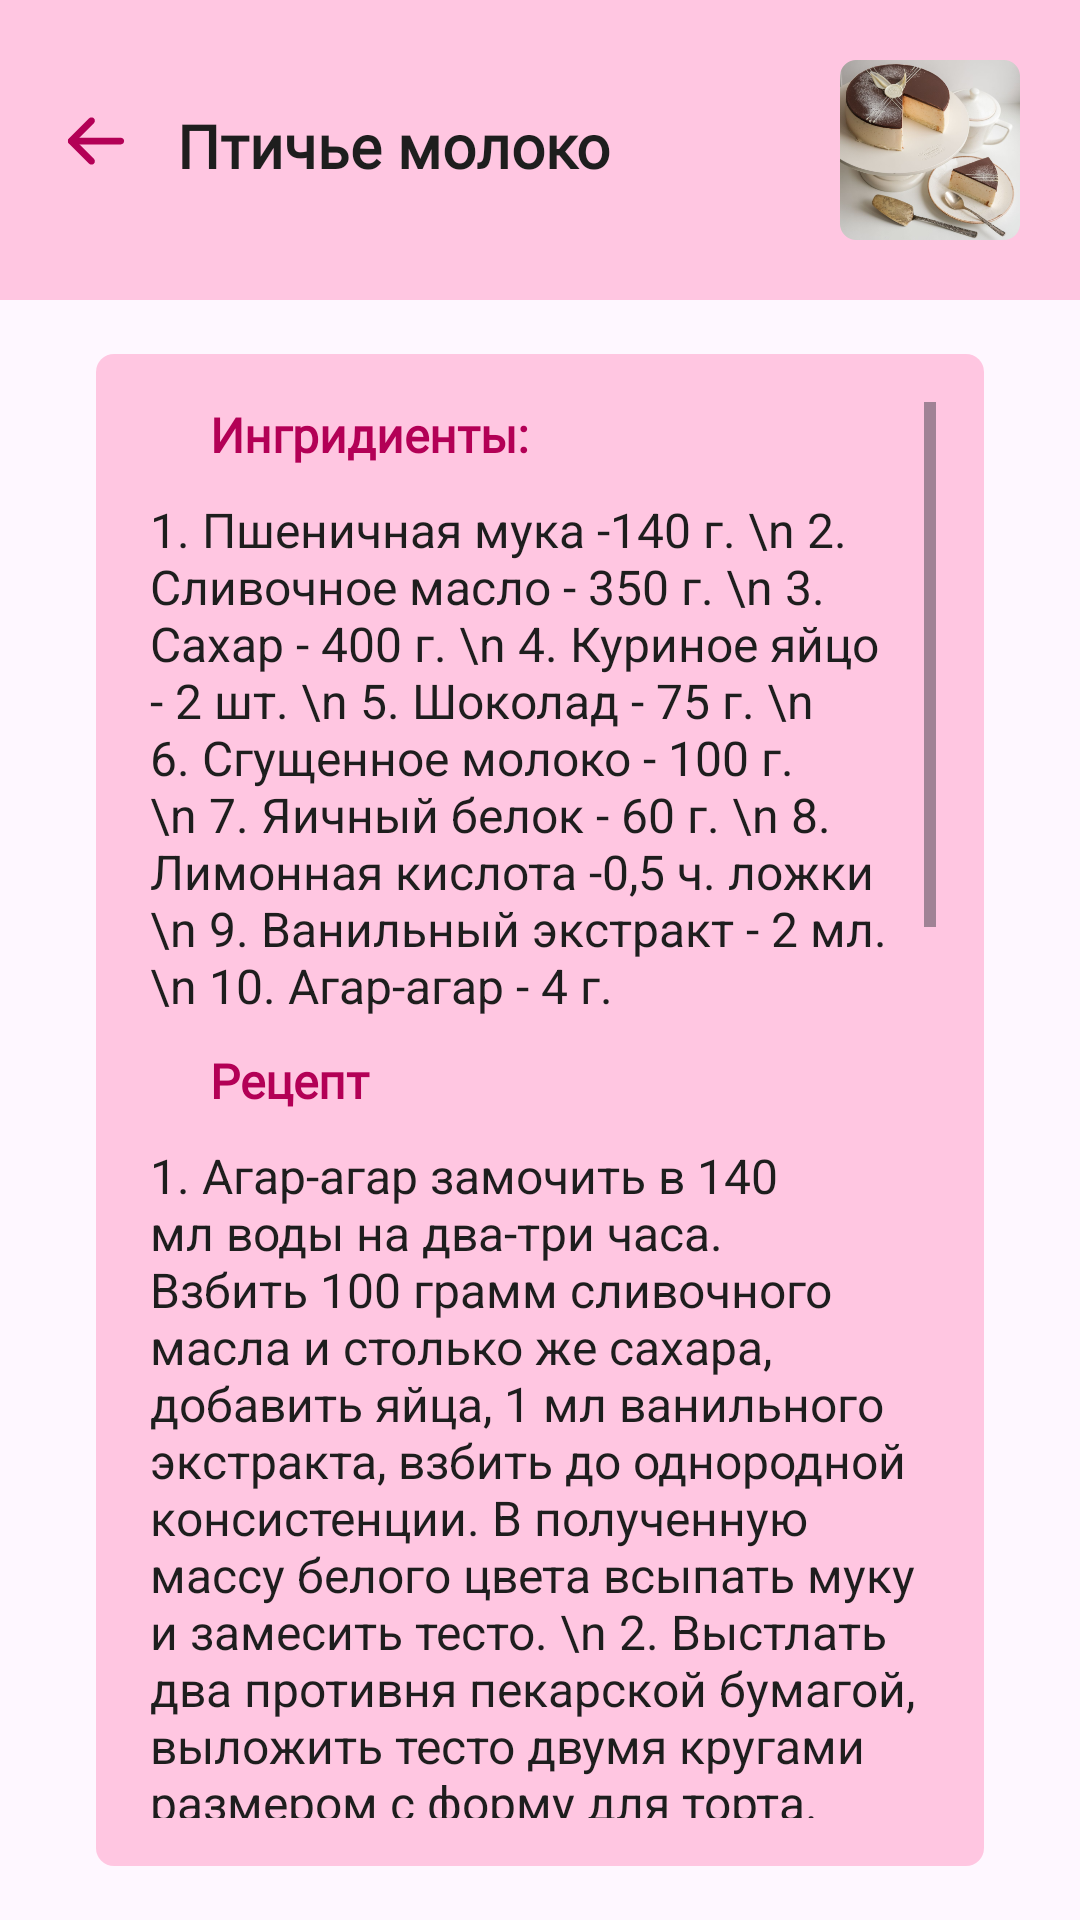

Named icons in this screenshot (1080px×1920px) and their bounding boxes, {"left": x1, "top": y1, "right": x2, "bottom": y2}:
second back: {"left": 68, "top": 117, "right": 124, "bottom": 165}
